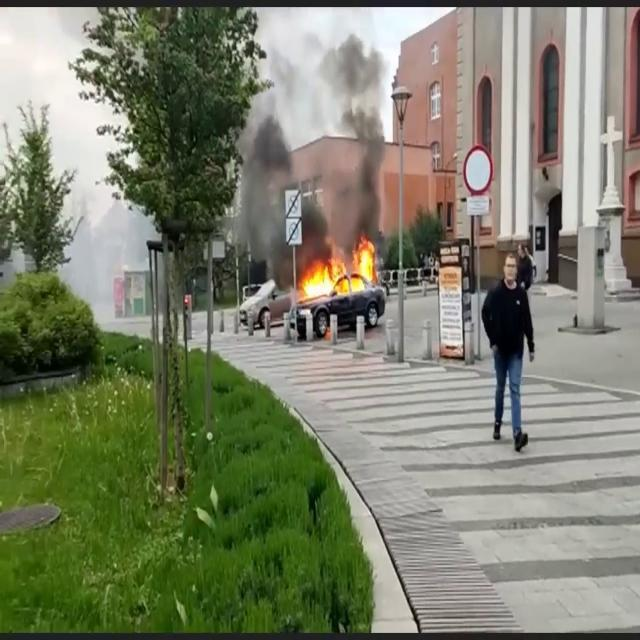Fire: (296, 236, 381, 298)
Smoke: (228, 4, 402, 242)
